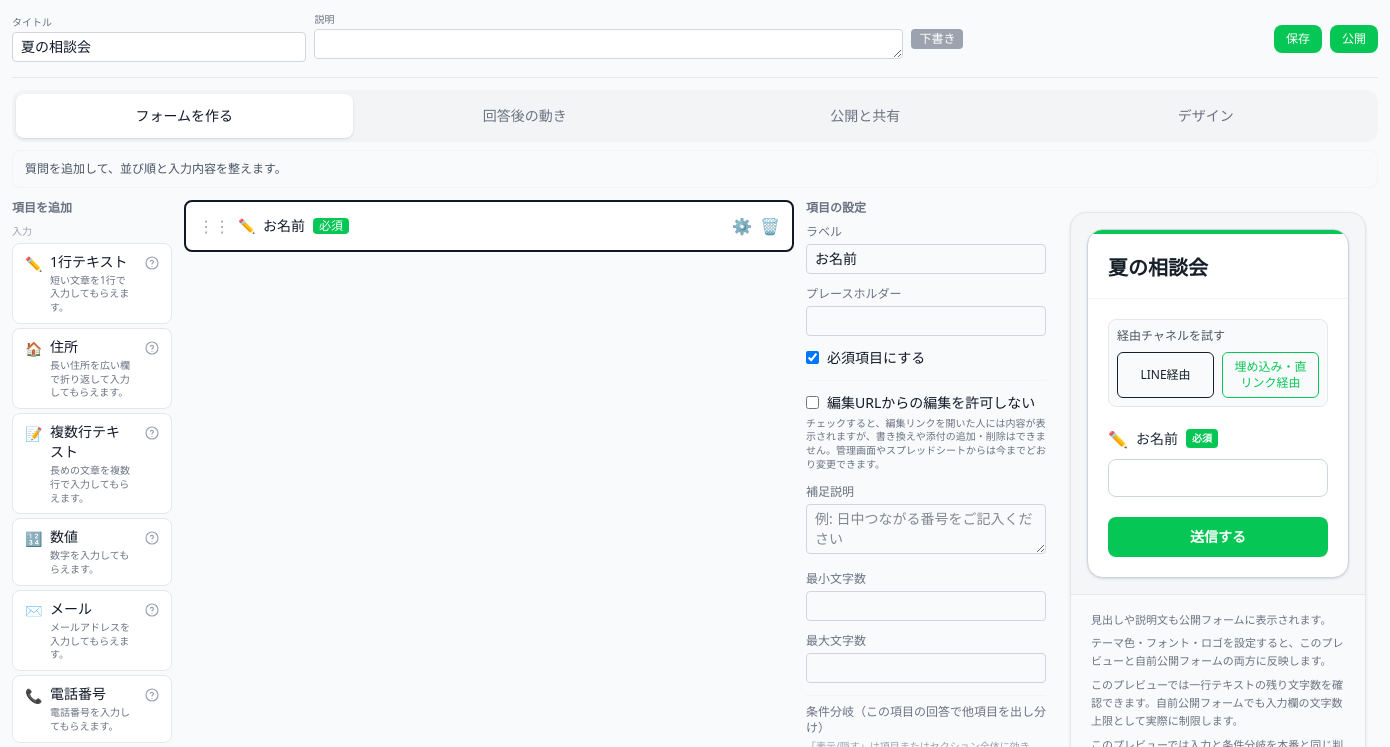
Test: internal publish confirmation › passes the saved redirect destination into the interactive preview without navigating
Type "佐藤" into the field labelled "お名前" at (1218, 478), box [1108, 458, 1328, 496]
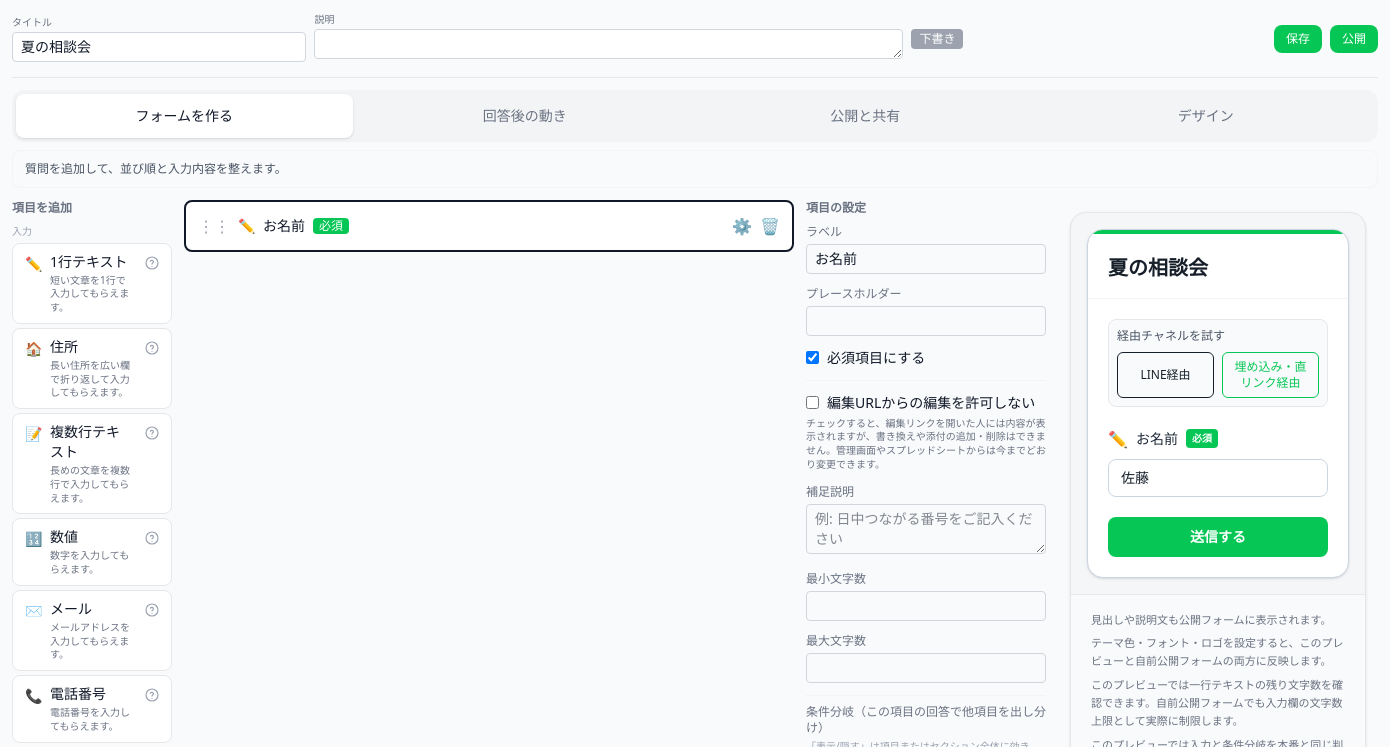
Click the button "送信する" at (1218, 536), box [1108, 516, 1328, 556]
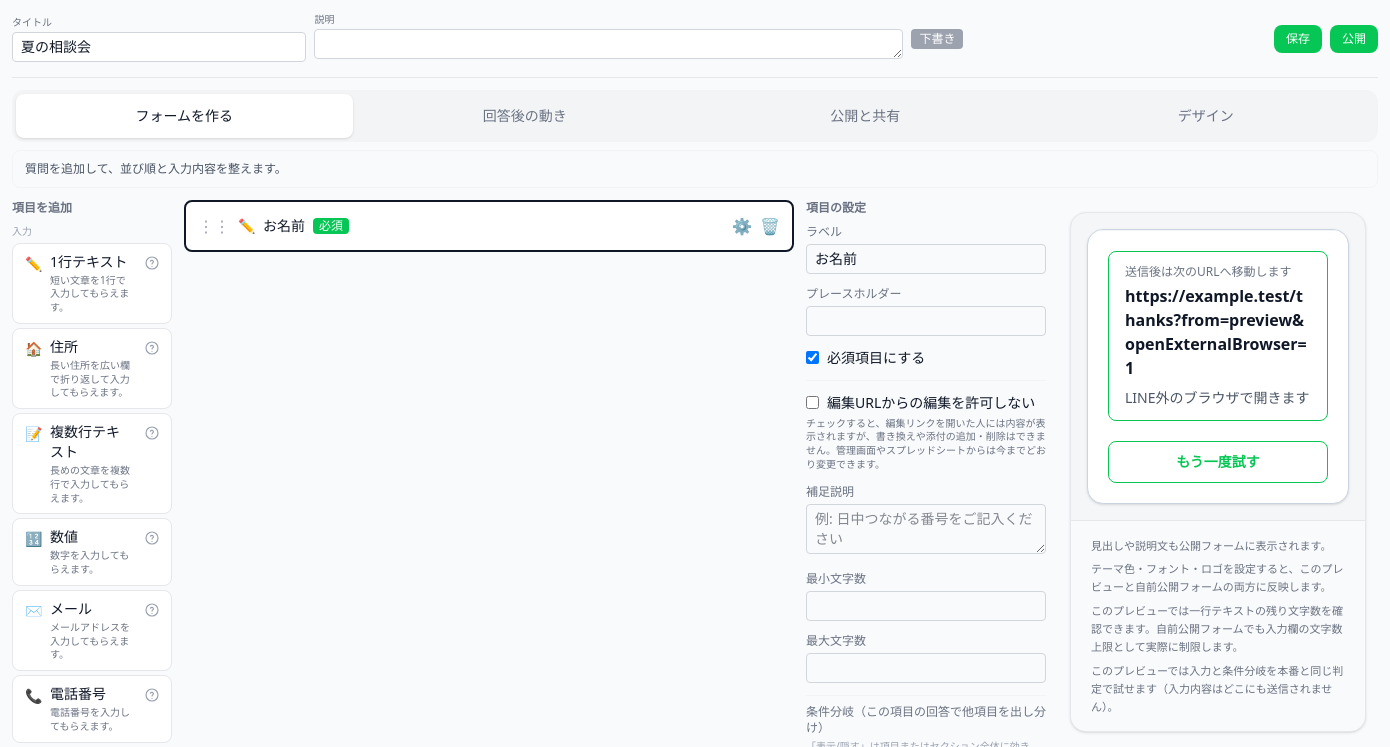
Now the message with test id "preview-redirect-completion" shows "https://example.test/thanks?from=preview", box [1125, 284, 1307, 378]
Now the message with test id "preview-redirect-completion" shows "LINE外のブラウザ", box [1125, 388, 1310, 406]
